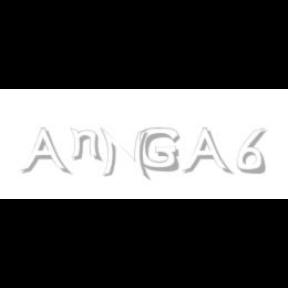6: (236, 128, 266, 176)
A: (20, 128, 68, 176), (182, 128, 230, 176)
G: (140, 128, 180, 172)
N: (100, 128, 148, 180)
n: (69, 128, 103, 162)
